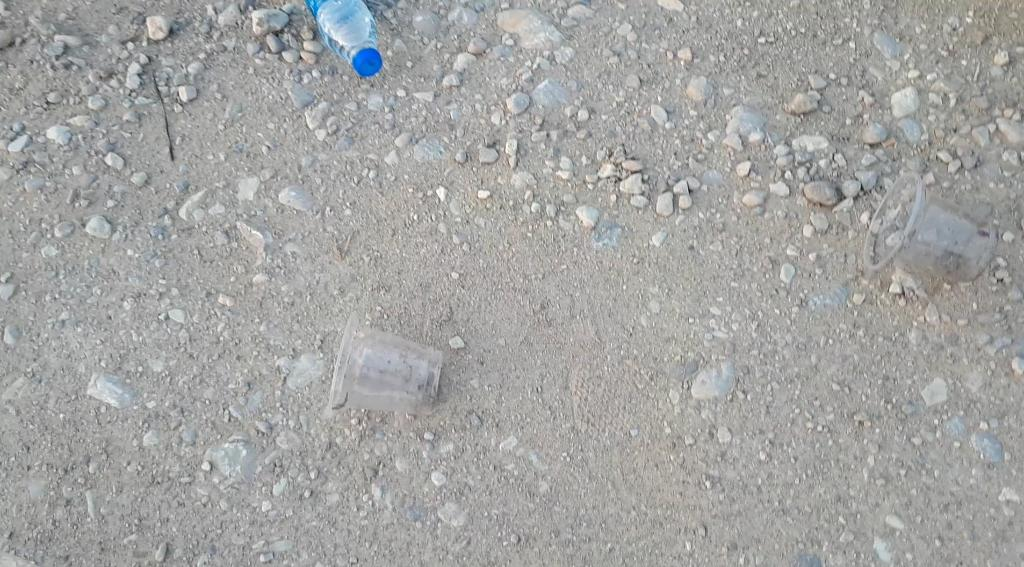garbage: (304, 0, 382, 76)
